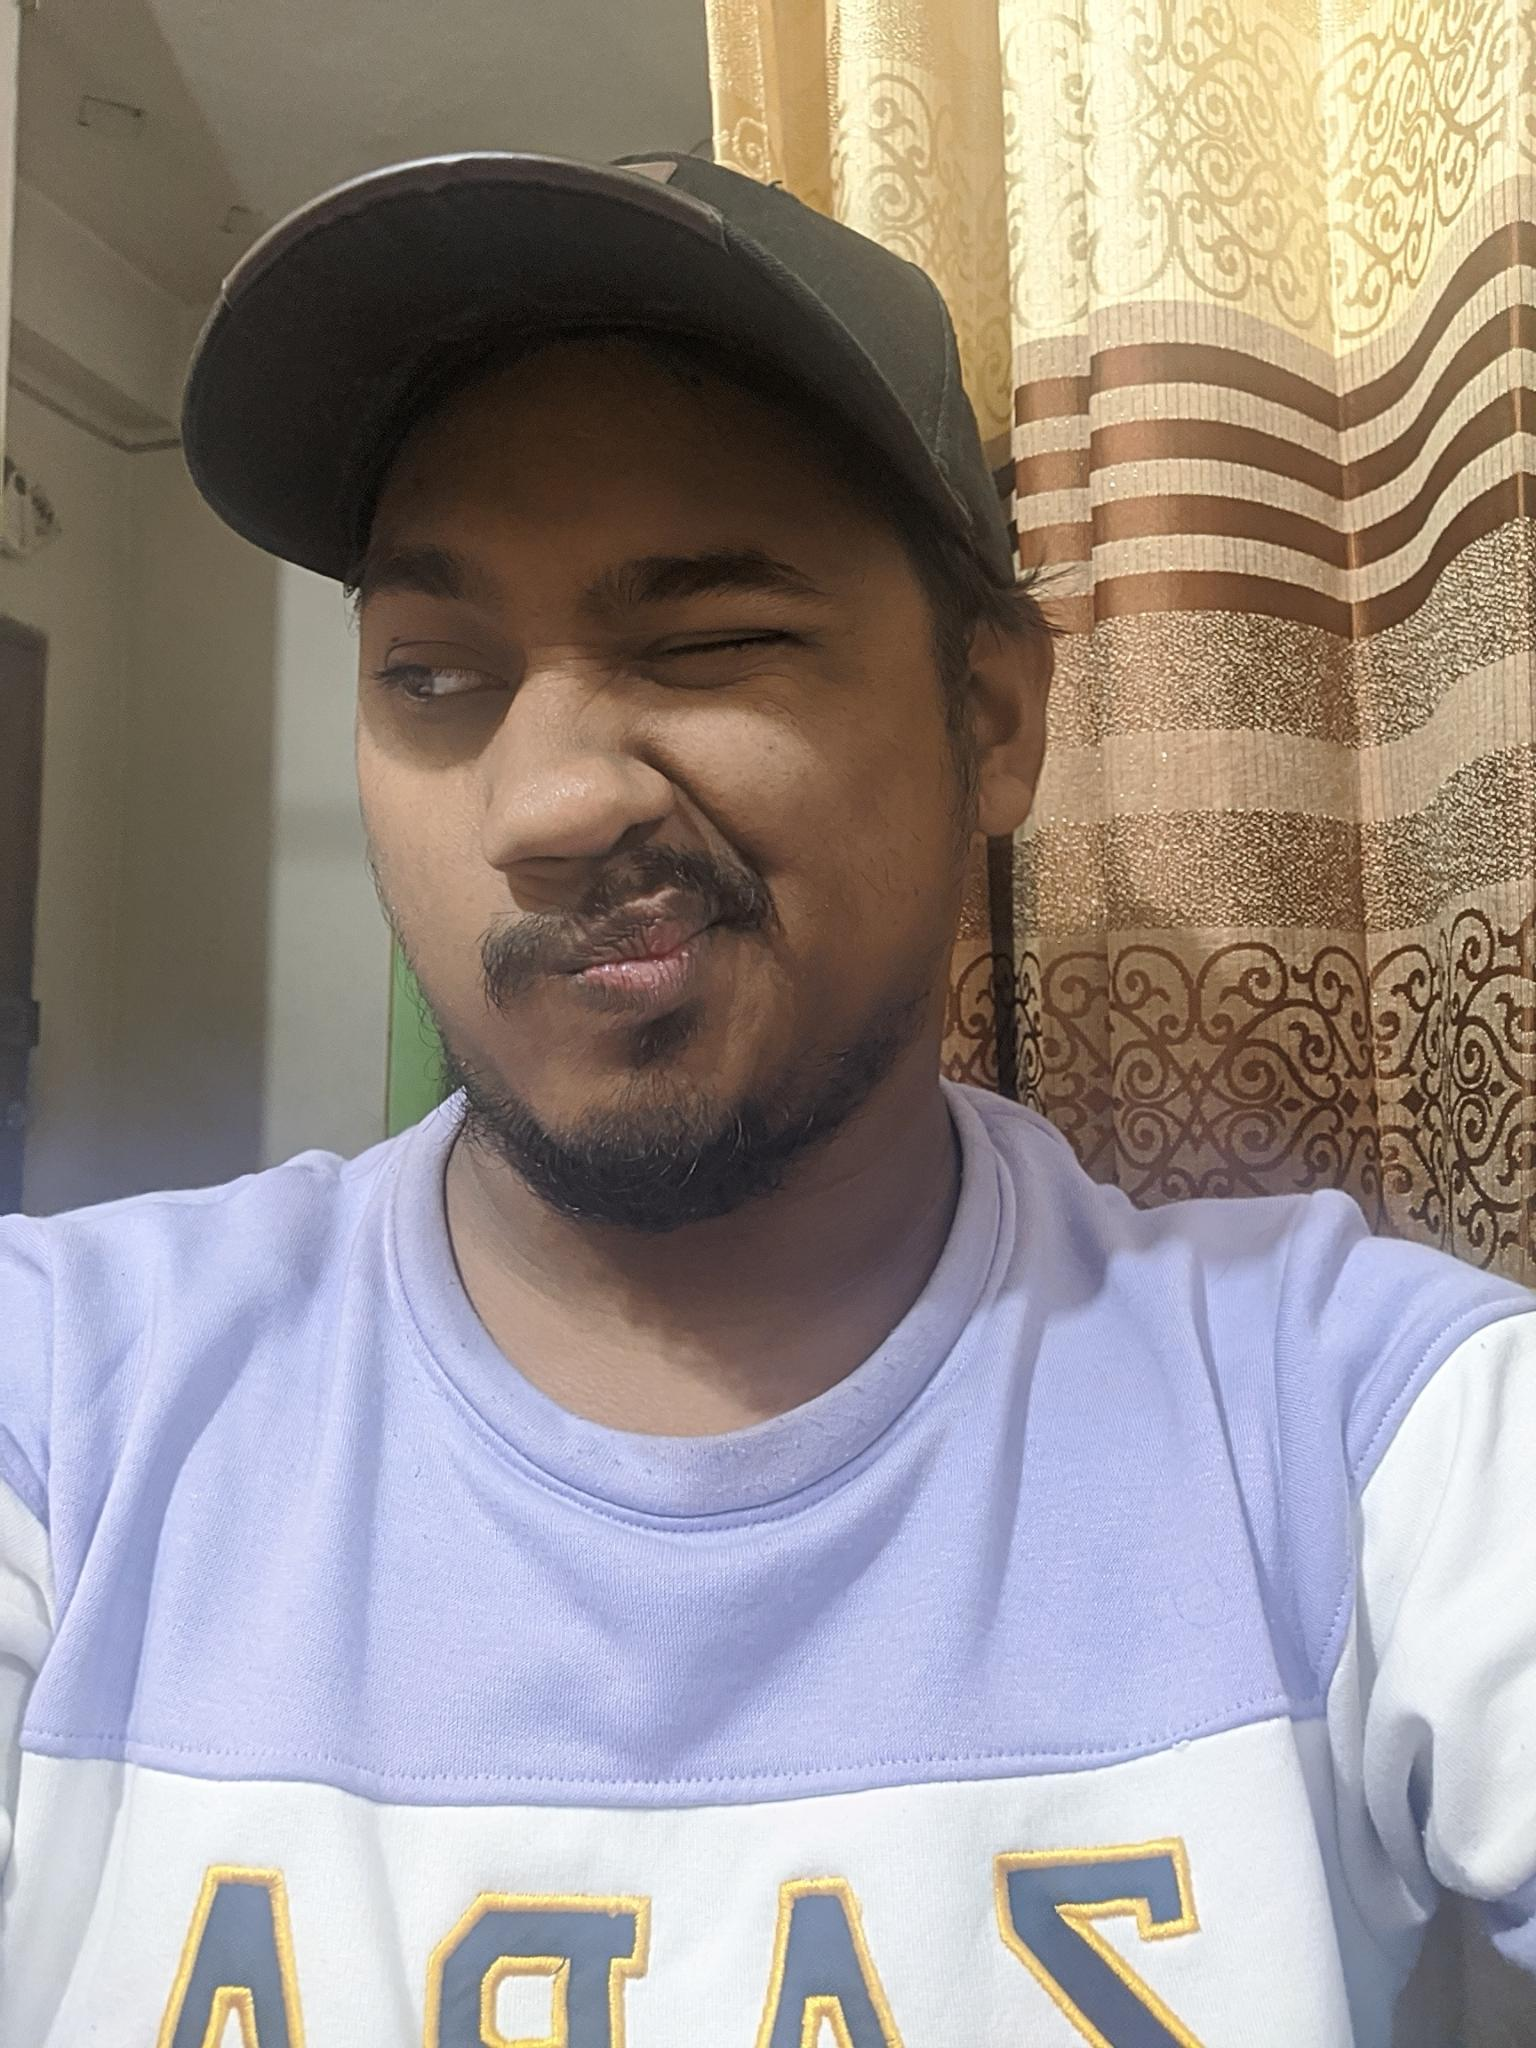Disgust: (303, 455, 925, 1226)
